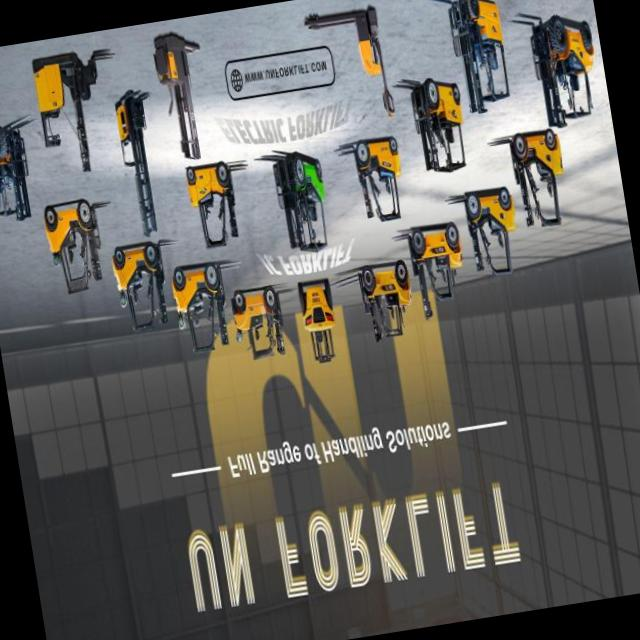forklift: (519, 4, 601, 131), (406, 68, 477, 192), (450, 0, 518, 121), (41, 192, 111, 306), (403, 212, 473, 326), (504, 126, 574, 234), (272, 146, 336, 260), (166, 256, 236, 360), (179, 152, 248, 253), (458, 184, 522, 286), (352, 256, 421, 350), (109, 242, 175, 336), (292, 271, 346, 378), (229, 282, 292, 371), (349, 130, 403, 230), (0, 112, 39, 233)
